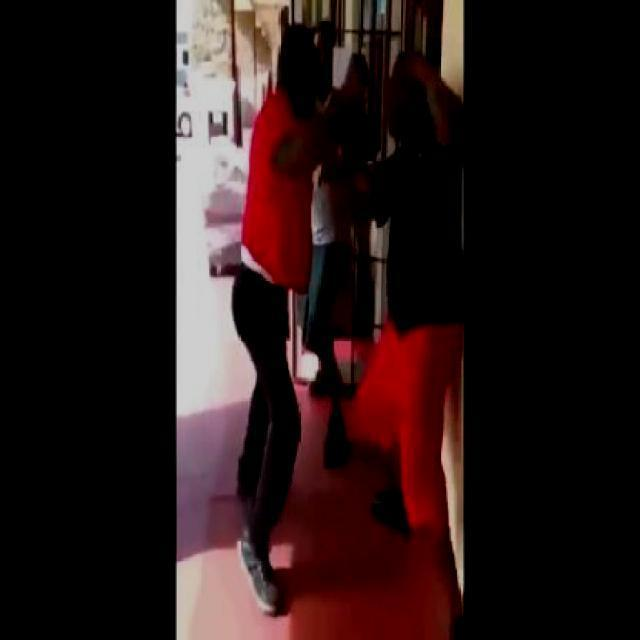fight: (229, 24, 463, 622)
